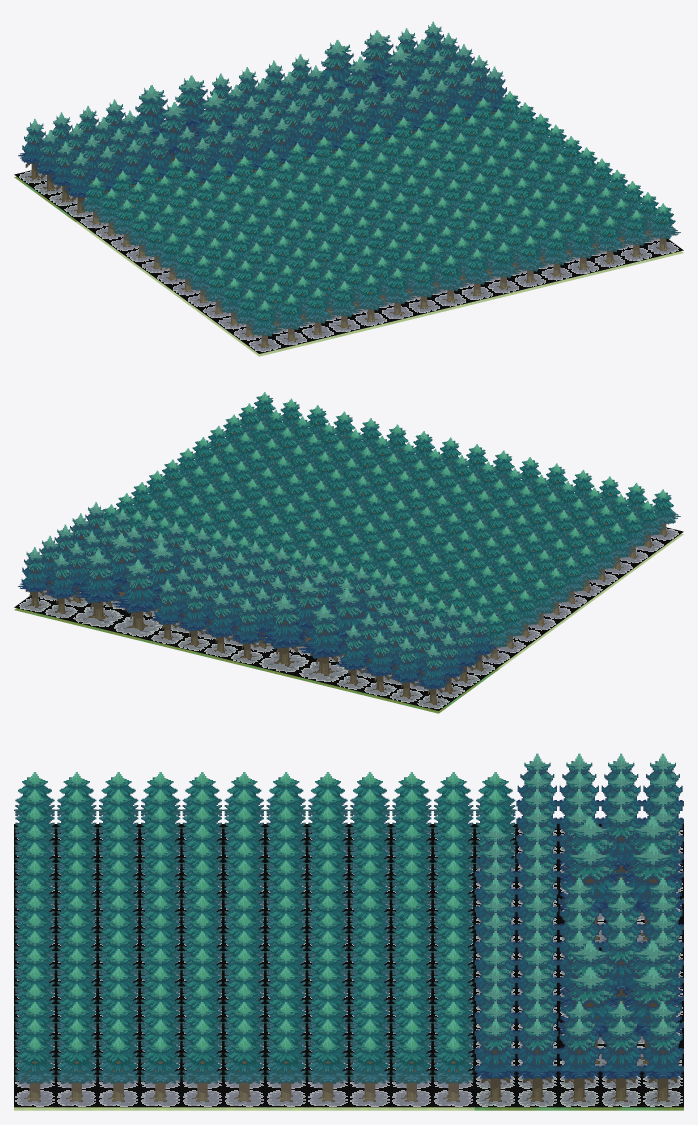
The picture shows the model from 3 angles, top to bottom: view 1: azimuth 30°, elevation 25°; view 2: azimuth 150°, elevation 25°; view 3: azimuth 270°, elevation 25°; orthographic projection. The views are drawn at different scales.
Visible parts, largest first — view 1: polygon2, polygon0, polygon4, polygon1, polygon3, polygon7, polygon6, polygon9, polygon5; view 2: polygon2, polygon0, polygon4, polygon5, polygon3, polygon6, polygon7, polygon1, polygon8, polygon9; view 3: polygon2, polygon0, polygon1, polygon3, polygon4, polygon5, polygon7, polygon6, polygon9, polygon8.
Boxes of the visible parts, box(x1,y1,x2,y2) form: polygon2: box(83, 91, 675, 346); polygon0: box(21, 21, 506, 211); polygon4: box(88, 95, 671, 310); polygon1: box(75, 215, 683, 353); polygon3: box(79, 119, 680, 335); polygon7: box(28, 27, 503, 165); polygon6: box(18, 72, 503, 197); polygon9: box(75, 221, 683, 356); polygon5: box(14, 88, 490, 219); polygon2: box(102, 392, 675, 658); polygon0: box(21, 502, 492, 703); polygon4: box(103, 396, 671, 622); polygon5: box(14, 576, 499, 710); polygon3: box(130, 420, 680, 647); polygon6: box(18, 551, 495, 689); polygon7: box(26, 507, 488, 656); polygon1: box(474, 527, 683, 665); polygon8: box(14, 608, 499, 713); polygon9: box(498, 533, 683, 668); polygon2: box(15, 772, 515, 1098); polygon0: box(474, 753, 683, 1098); polygon1: box(14, 824, 516, 1107); polygon3: box(14, 803, 516, 1083); polygon4: box(24, 777, 505, 1052); polygon5: box(474, 824, 683, 1107); polygon7: box(483, 761, 674, 1036); polygon6: box(474, 798, 683, 1079); polygon9: box(14, 1107, 474, 1110); polygon8: box(474, 1107, 683, 1110).
Size of the model in its own units: 8 by 1.29 by 8.
